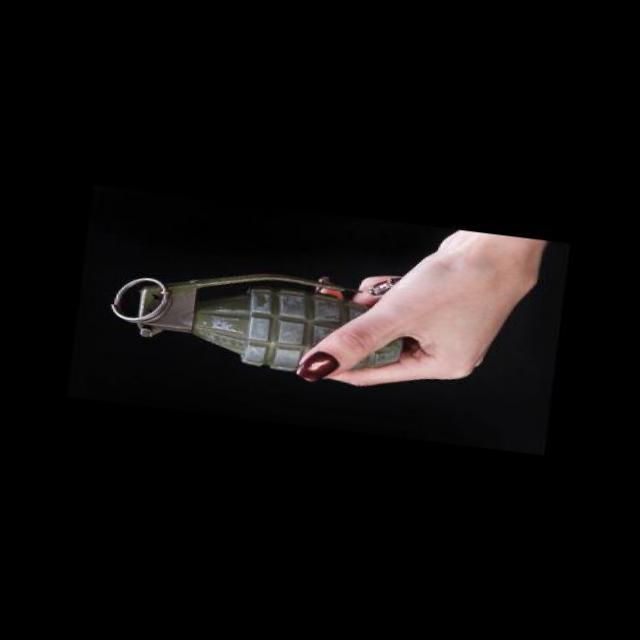grenade: (86, 241, 410, 394)
